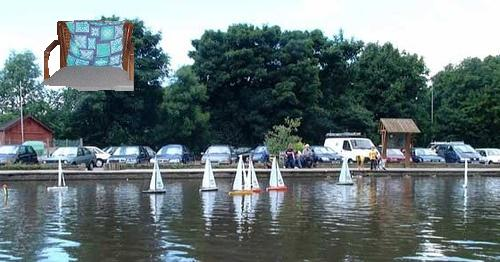tampered: (40, 21, 134, 91)
